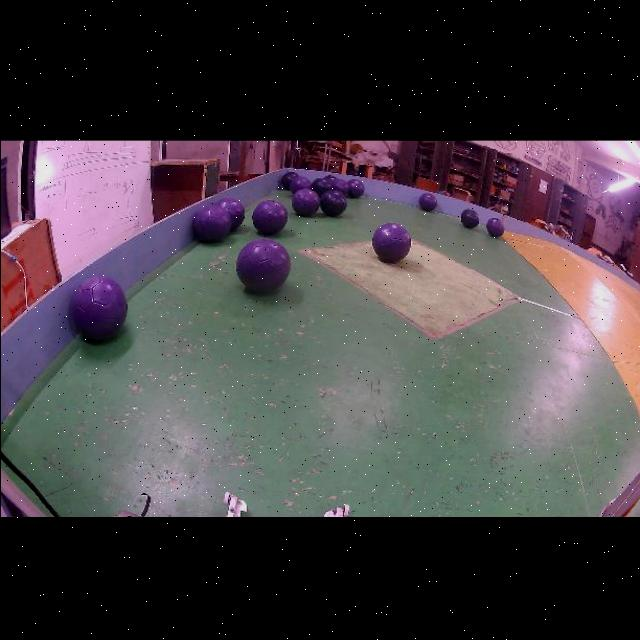B: (319, 188, 346, 214), (459, 207, 479, 226), (310, 177, 331, 195), (280, 170, 297, 188)
P: (71, 275, 126, 339), (236, 237, 289, 292), (370, 221, 410, 260), (193, 203, 231, 241), (252, 197, 287, 233), (215, 196, 244, 229), (291, 187, 319, 214), (288, 174, 310, 192), (485, 216, 504, 235), (418, 191, 436, 209), (347, 177, 364, 196), (331, 177, 348, 194)
